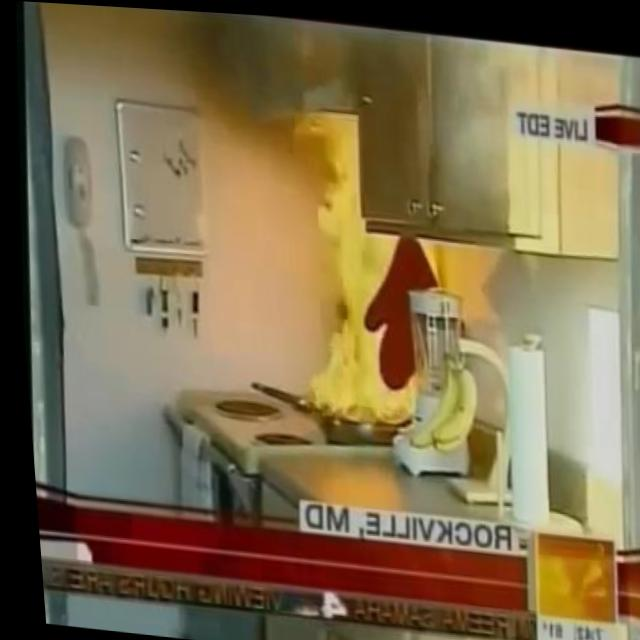fire: (288, 197, 421, 430)
